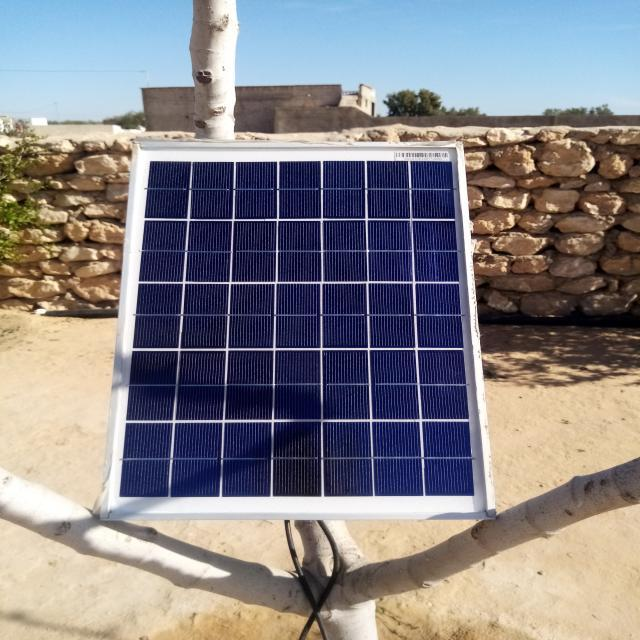no faulty: (105, 145, 494, 518)
